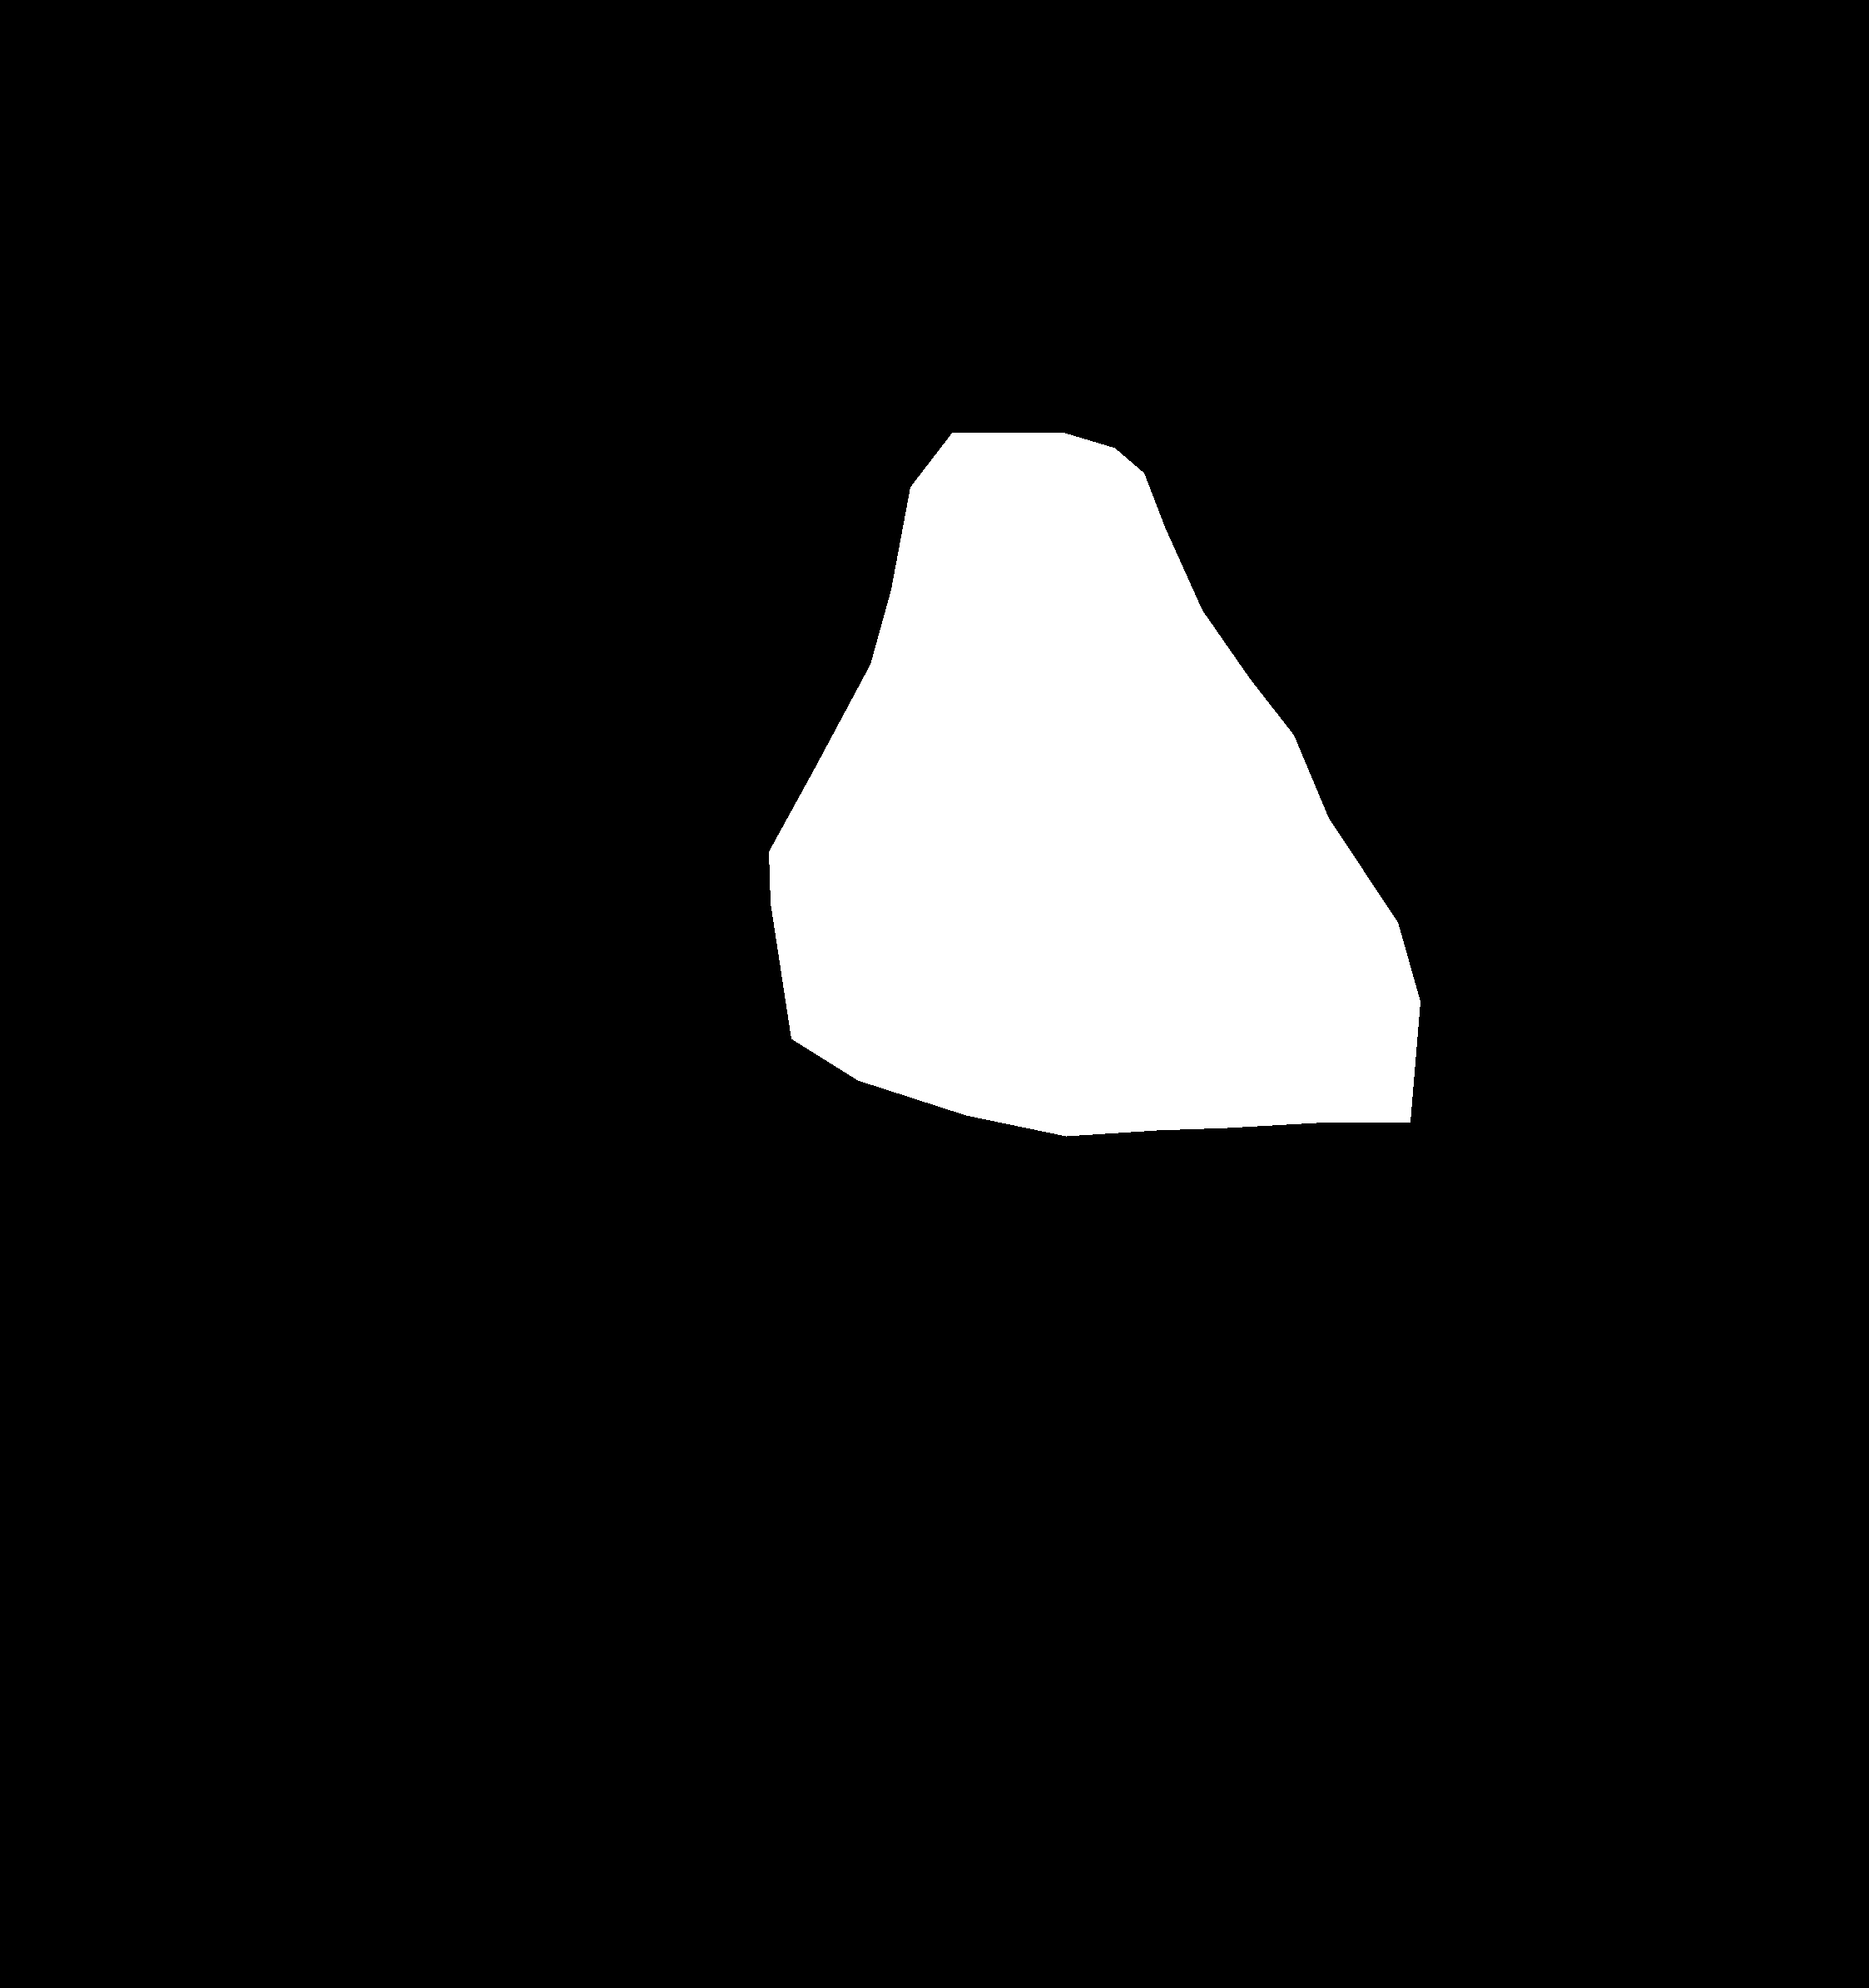heart: (769, 432, 1419, 1136)
left_lung: (302, 53, 949, 1235)
right_lung: (1110, 56, 1744, 1329)
